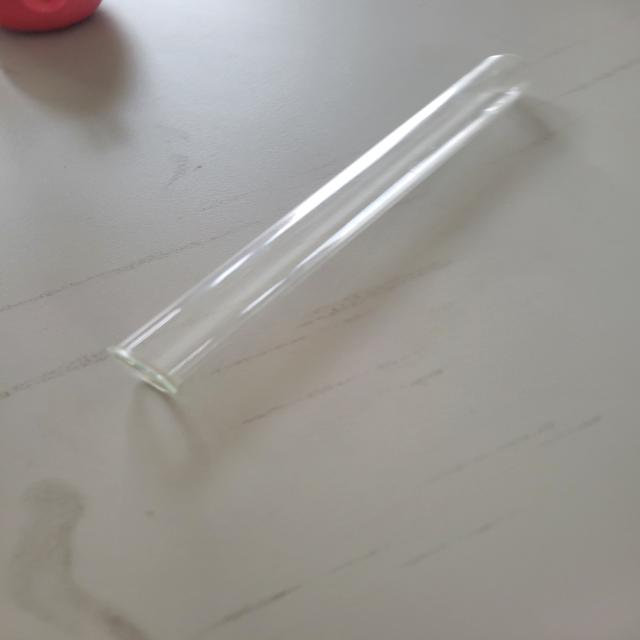Test_Tube: (113, 24, 558, 442)
